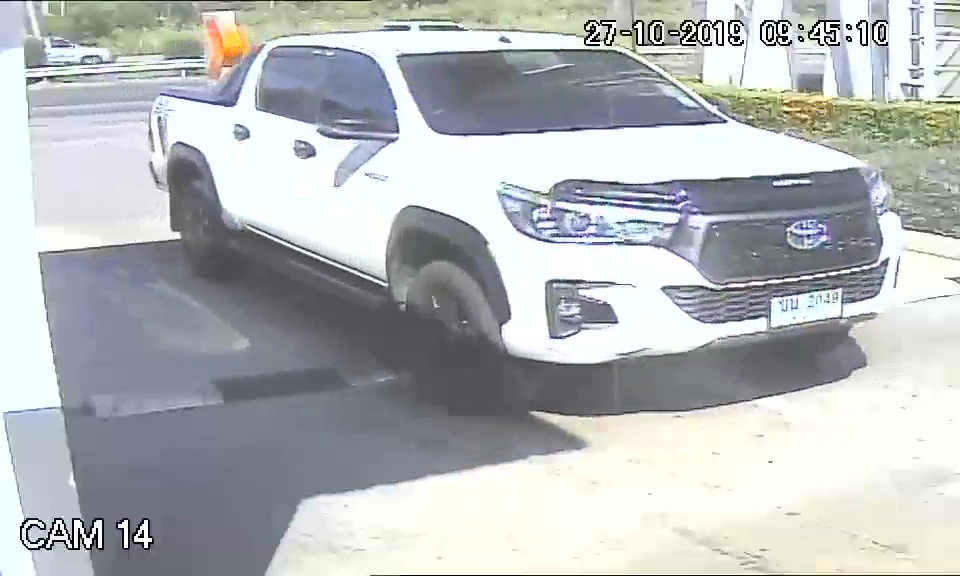pickup: (141, 25, 912, 416)
